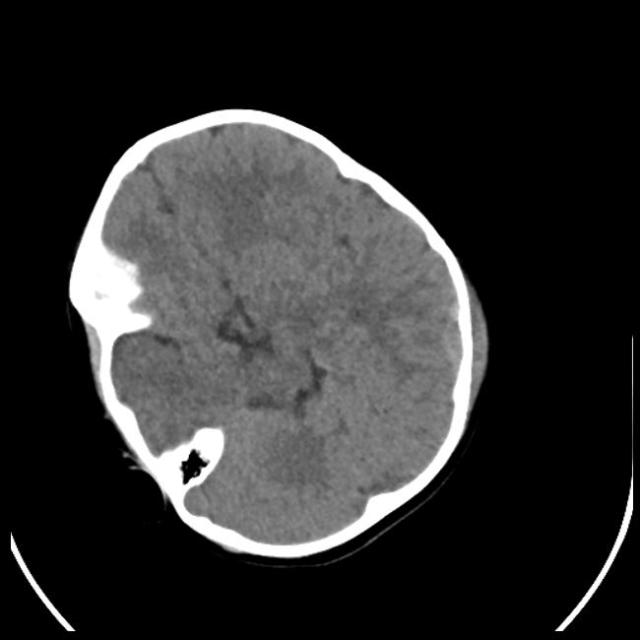lesion: (64, 106, 491, 564)
